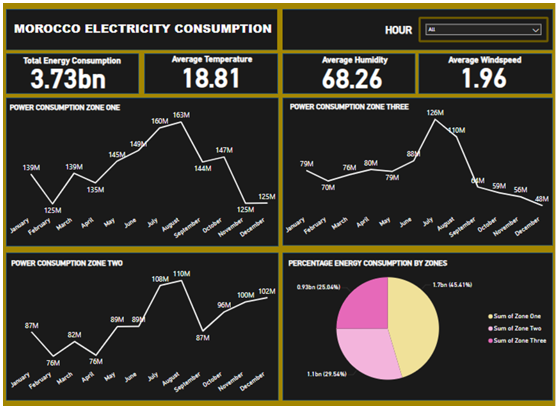

What the dashboard file says about the page in this screenshot:
{"tool":"powerbi","page":{"name":"Page 1","canvas":[1280,983],"ordinal":0},"visuals":[{"type":"shape","box":[12.3,165.4,306.2,93.3],"z":0},{"type":"shape","box":[12.3,624.7,628.3,341.4],"z":1000},{"type":"shape","box":[12.3,267.5,628.3,343.2],"z":2000},{"type":"shape","box":[11.8,64.1,1261.4,94.4],"z":3000},{"type":"lineChart","fields":{"Y":["Sum(powerconsumption.PowerConsumption_Zone1)"],"Category":["powerconsumption.date.Variation.Date Hierarchy.Year","powerconsumption.date.Variation.Date Hierarchy.Quarter","powerconsumption.date.Variation.Date Hierarchy.Month","powerconsumption.date.Variation.Date Hierarchy.Day"]},"box":[12.3,272.8,626.5,337.9],"z":4000},{"type":"textbox","box":[0,84.3,664.4,50.6],"z":5000},{"type":"shape","box":[666.1,288.4,298.5,204.1],"z":6000},{"type":"shape","box":[649.4,267.5,623,341.4],"z":7000},{"type":"textbox","box":[19.4,633.5,431.2,44],"z":8000},{"type":"lineChart","fields":{"Y":["powerconsumption.total energy con.zone 2"],"Category":["powerconsumption.date.Variation.Date Hierarchy.Year","powerconsumption.date.Variation.Date Hierarchy.Quarter","powerconsumption.date.Variation.Date Hierarchy.Month","powerconsumption.date.Variation.Date Hierarchy.Day"]},"box":[14.1,624.7,624.7,341.4],"z":9000},{"type":"textbox","box":[15.8,274.5,279.8,42.2],"z":10000},{"type":"card","fields":{"Values":["powerconsumption.total power consumption"]},"box":[33.4,172.5,244.6,86.2],"z":11000},{"type":"shape","box":[649.4,624.7,623,341.4],"z":12000},{"type":"shape","box":[330.9,165.4,308,93.3],"z":13000},{"type":"shape","box":[964.4,165.4,308,93.3],"z":14000},{"type":"shape","box":[649.4,165.4,306.2,93.3],"z":15000},{"type":"textbox","box":[31.7,165.4,265.7,33.4],"z":16000},{"type":"lineChart","fields":{"Category":["powerconsumption.date.Variation.Date Hierarchy.Year","powerconsumption.date.Variation.Date Hierarchy.Quarter","powerconsumption.date.Variation.Date Hierarchy.Month","powerconsumption.date.Variation.Date Hierarchy.Day"],"Y":["Sum(powerconsumption.PowerConsumption_Zone3)"]},"box":[647.6,267.5,624.7,341.4],"z":17000},{"type":"textbox","box":[661.7,272.8,302.7,44],"z":18000},{"type":"pieChart","fields":{"Y":["Sum(powerconsumption.PowerConsumption_Zone1)","Sum(powerconsumption.PowerConsumption_Zone2)","Sum(powerconsumption.PowerConsumption_Zone3)"]},"box":[656.4,633.5,615.9,332.6],"z":19000},{"type":"textbox","box":[658.2,633.5,388.9,44],"z":20000},{"type":"card","fields":{"Values":["powerconsumption.average temp"]},"box":[346.7,165.4,278.1,95],"z":21000},{"type":"textbox","box":[364.3,161.9,241.1,37],"z":22000},{"type":"card","fields":{"Values":["powerconsumption.AVERAGE humdity"]},"box":[670.5,167.2,278.1,95],"z":23000},{"type":"textbox","box":[693.4,163.7,241.1,37],"z":24000},{"type":"card","fields":{"Values":["powerconsumption.average windspeed"]},"box":[975,165.4,278.1,95],"z":25000},{"type":"textbox","box":[994.3,163.7,241.1,37],"z":26000},{"type":"shape","box":[637.7,63.4,12.3,96.9],"z":27000},{"type":"slicer","fields":{"Values":["powerconsumption.Hour"]},"box":[964.3,80.2,299.9,59.3],"z":28000},{"type":"textbox","box":[842.1,93.4,151.5,44],"z":28001}]}

Visuals, with their boxes in screenshot pixels (x1, y1, x2, y2):
shape: (left=2, top=51, right=136, bottom=91)
shape: (left=2, top=251, right=277, bottom=401)
shape: (left=2, top=95, right=277, bottom=245)
shape: (left=2, top=6, right=554, bottom=47)
lineChart - Sum(powerconsumption.PowerConsumption_Zone1) x powerconsumption.date.Variation.Date Hierarchy.Year: (left=2, top=97, right=276, bottom=245)
textbox: (left=0, top=15, right=288, bottom=37)
shape: (left=288, top=104, right=419, bottom=194)
shape: (left=281, top=95, right=553, bottom=244)
textbox: (left=6, top=255, right=194, bottom=274)
lineChart - powerconsumption.total energy con.zone 2 x powerconsumption.date.Variation.Date Hierarchy.Year: (left=3, top=251, right=276, bottom=401)
textbox: (left=4, top=98, right=126, bottom=117)
card - powerconsumption.total power consumption: (left=12, top=54, right=119, bottom=91)
shape: (left=281, top=251, right=553, bottom=401)
shape: (left=142, top=51, right=276, bottom=91)
shape: (left=419, top=51, right=553, bottom=91)
shape: (left=281, top=51, right=415, bottom=91)
textbox: (left=11, top=51, right=127, bottom=65)
lineChart - powerconsumption.date.Variation.Date Hierarchy.Year x powerconsumption.date.Variation.Date Hierarchy.Quarter: (left=280, top=95, right=553, bottom=244)
textbox: (left=286, top=97, right=419, bottom=117)
pieChart - Sum(powerconsumption.PowerConsumption_Zone1) x Sum(powerconsumption.PowerConsumption_Zone2): (left=284, top=255, right=553, bottom=401)
textbox: (left=285, top=255, right=455, bottom=274)
card - powerconsumption.average temp: (left=149, top=51, right=270, bottom=92)
textbox: (left=156, top=49, right=262, bottom=65)
card - powerconsumption.AVERAGE humdity: (left=290, top=51, right=412, bottom=93)
textbox: (left=300, top=50, right=406, bottom=66)
card - powerconsumption.average windspeed: (left=423, top=51, right=545, bottom=92)
textbox: (left=432, top=50, right=537, bottom=66)
shape: (left=276, top=6, right=281, bottom=48)
slicer - powerconsumption.Hour: (left=419, top=13, right=550, bottom=39)
textbox: (left=365, top=19, right=431, bottom=38)
